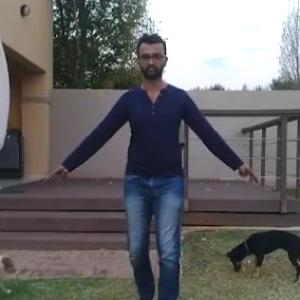land: (78, 52, 234, 298)
